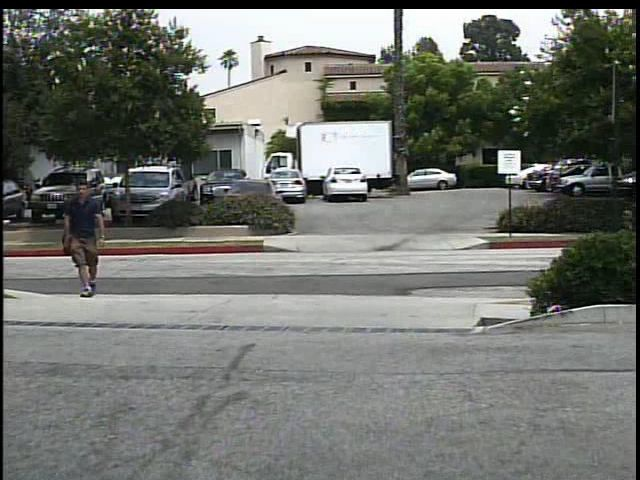person: (61, 180, 112, 299)
